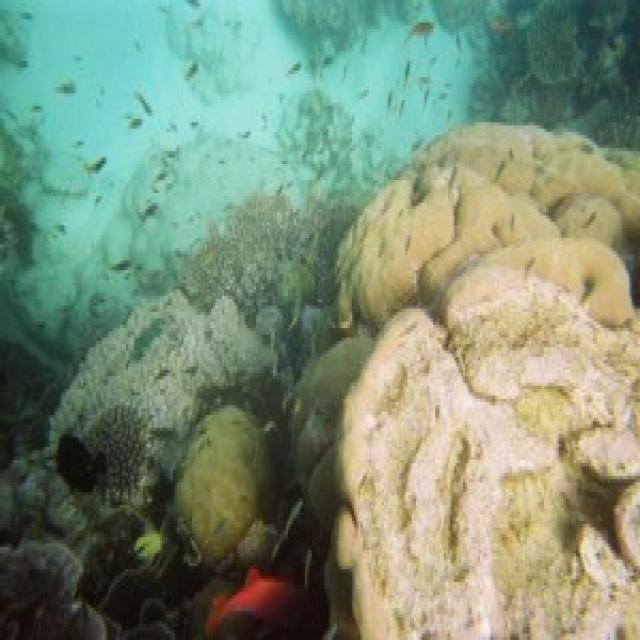Bleached: (353, 128, 640, 640), (61, 291, 253, 424)
Healthy: (102, 504, 179, 640), (2, 348, 57, 448), (88, 415, 143, 499), (533, 9, 573, 73)
